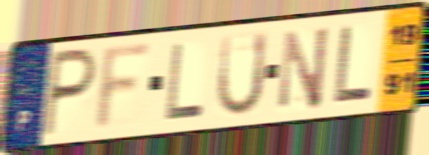F: (91, 38, 157, 135)
L: (331, 22, 374, 107), (163, 41, 206, 123)
N: (277, 23, 332, 112)
P: (40, 45, 99, 140)
U: (213, 29, 270, 120)
